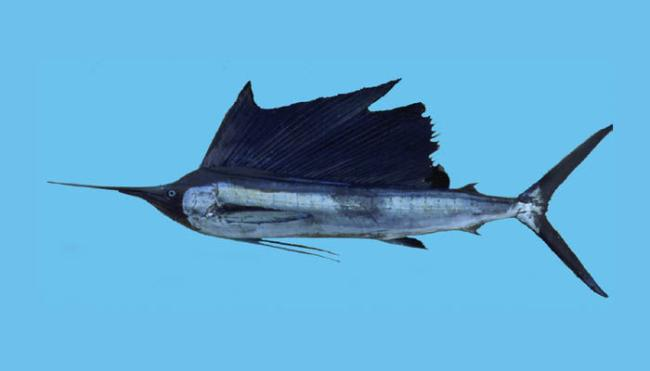fish: (48, 79, 614, 299)
